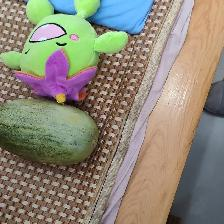gua: (11, 111, 90, 161)
